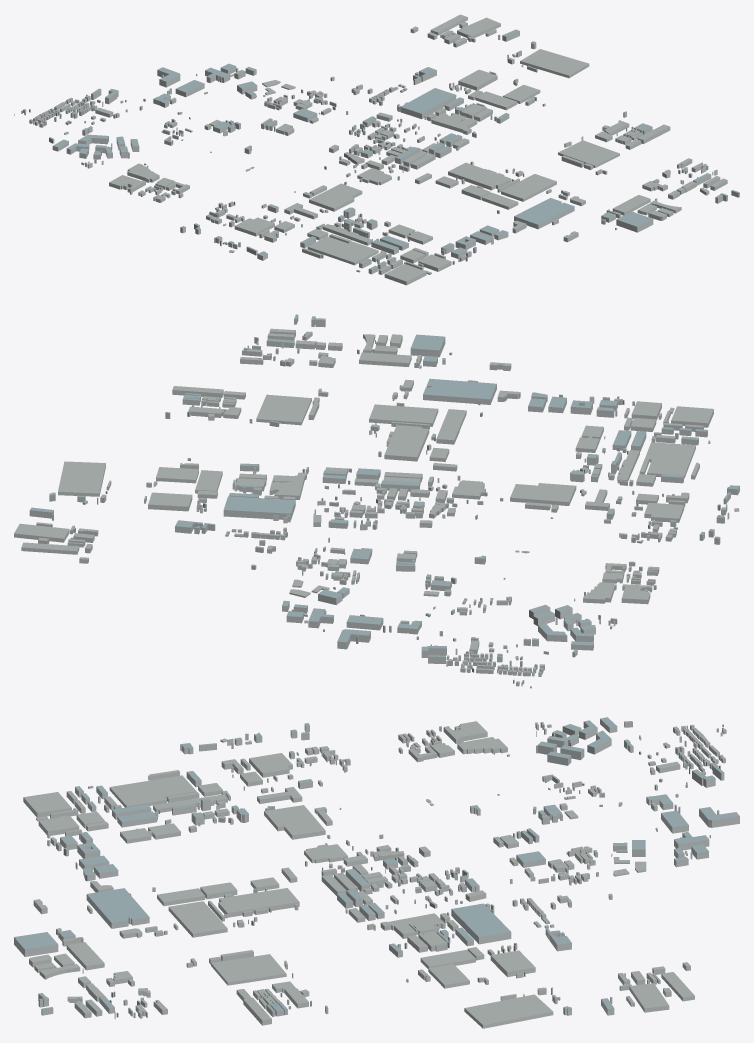
File: far.glb
The picture shows the model from 3 angles, top to bottom: view 1: azimuth 30°, elevation 25°; view 2: azimuth 150°, elevation 25°; view 3: azimuth 270°, elevation 25°; orthographic projection. The views are drawn at different scales.
Size of the model in its own units: 2197 by 34.35 by 2201.
